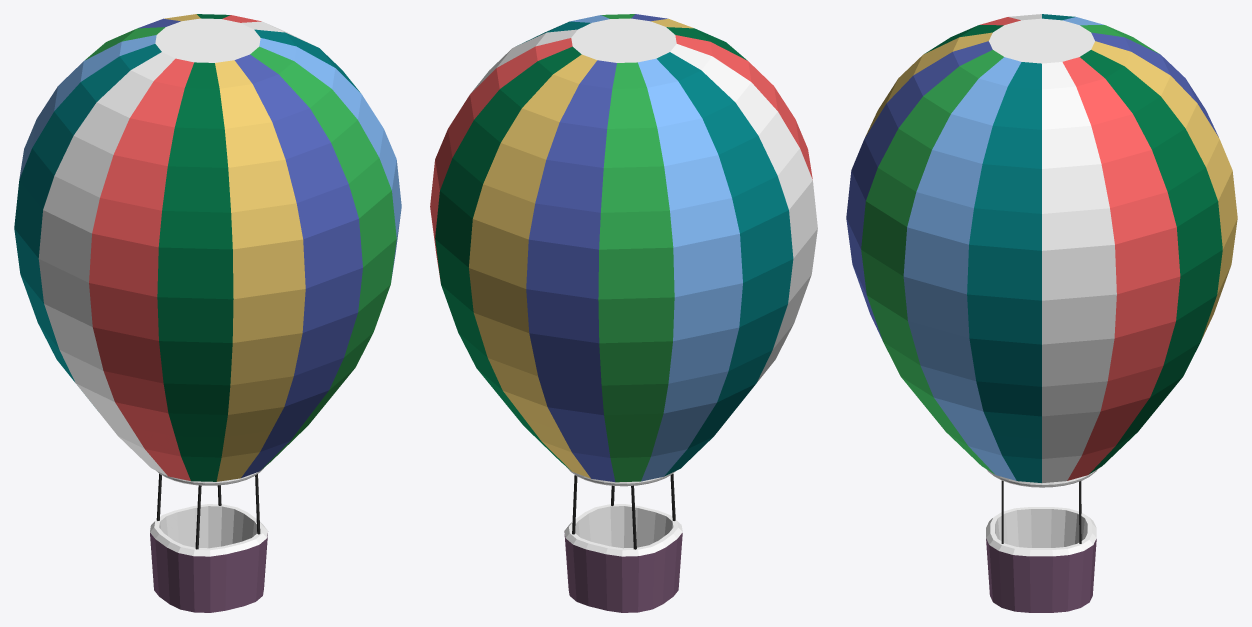
File: Ballon.fbx
3 renders of one model, left to right at view 1: azimuth 30°, elevation 25°; view 2: azimuth 150°, elevation 25°; view 3: azimuth 270°, elevation 25°, orthographic.
Visible parts, largest first — view 1: Ballon; view 2: Ballon; view 3: Ballon.
Boxes of the visible parts, x1,y1,x2,y2 form: Ballon: [14, 14, 401, 612]; Ballon: [430, 14, 817, 612]; Ballon: [846, 14, 1237, 612].
Size of the model in its own units: 3.76 by 5.83 by 3.76.
